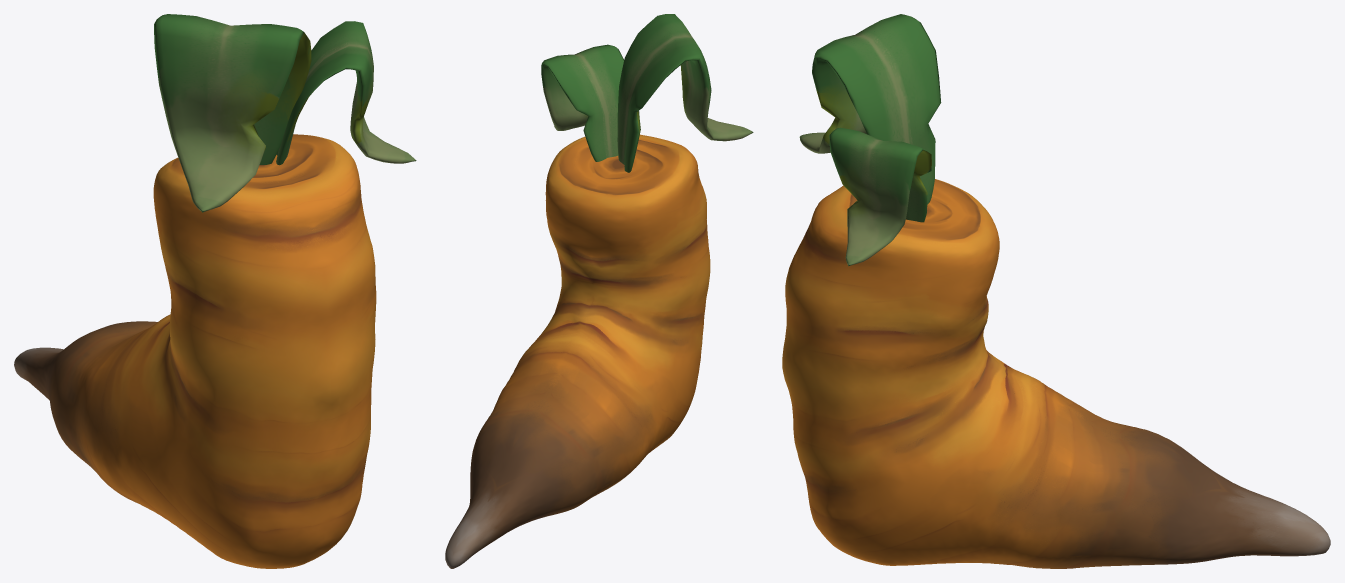
File: CarrotSlug.fbx
3 views of the same model, side by side, from view 1: azimuth 30°, elevation 25°; view 2: azimuth 150°, elevation 25°; view 3: azimuth 270°, elevation 25° (orthographic). The views are drawn at different scales.
Visible parts, largest first — view 1: CarrotBody, CarrotLeaf1, CarrotLeaf2; view 2: CarrotBody, CarrotLeaf1, CarrotLeaf2; view 3: CarrotBody, CarrotLeaf1, CarrotLeaf2.
Part boxes in pixels (x1,y1,x2,y2): CarrotBody: [14, 134, 376, 568]; CarrotLeaf1: [154, 14, 311, 212]; CarrotLeaf2: [276, 21, 416, 165]; CarrotBody: [445, 134, 710, 568]; CarrotLeaf1: [617, 14, 753, 172]; CarrotLeaf2: [541, 44, 624, 161]; CarrotBody: [782, 179, 1330, 568]; CarrotLeaf1: [799, 14, 941, 204]; CarrotLeaf2: [829, 127, 931, 266].
Bounding box in the file's own units: 124 × 276 × 273.
1 material, 1 textured.
